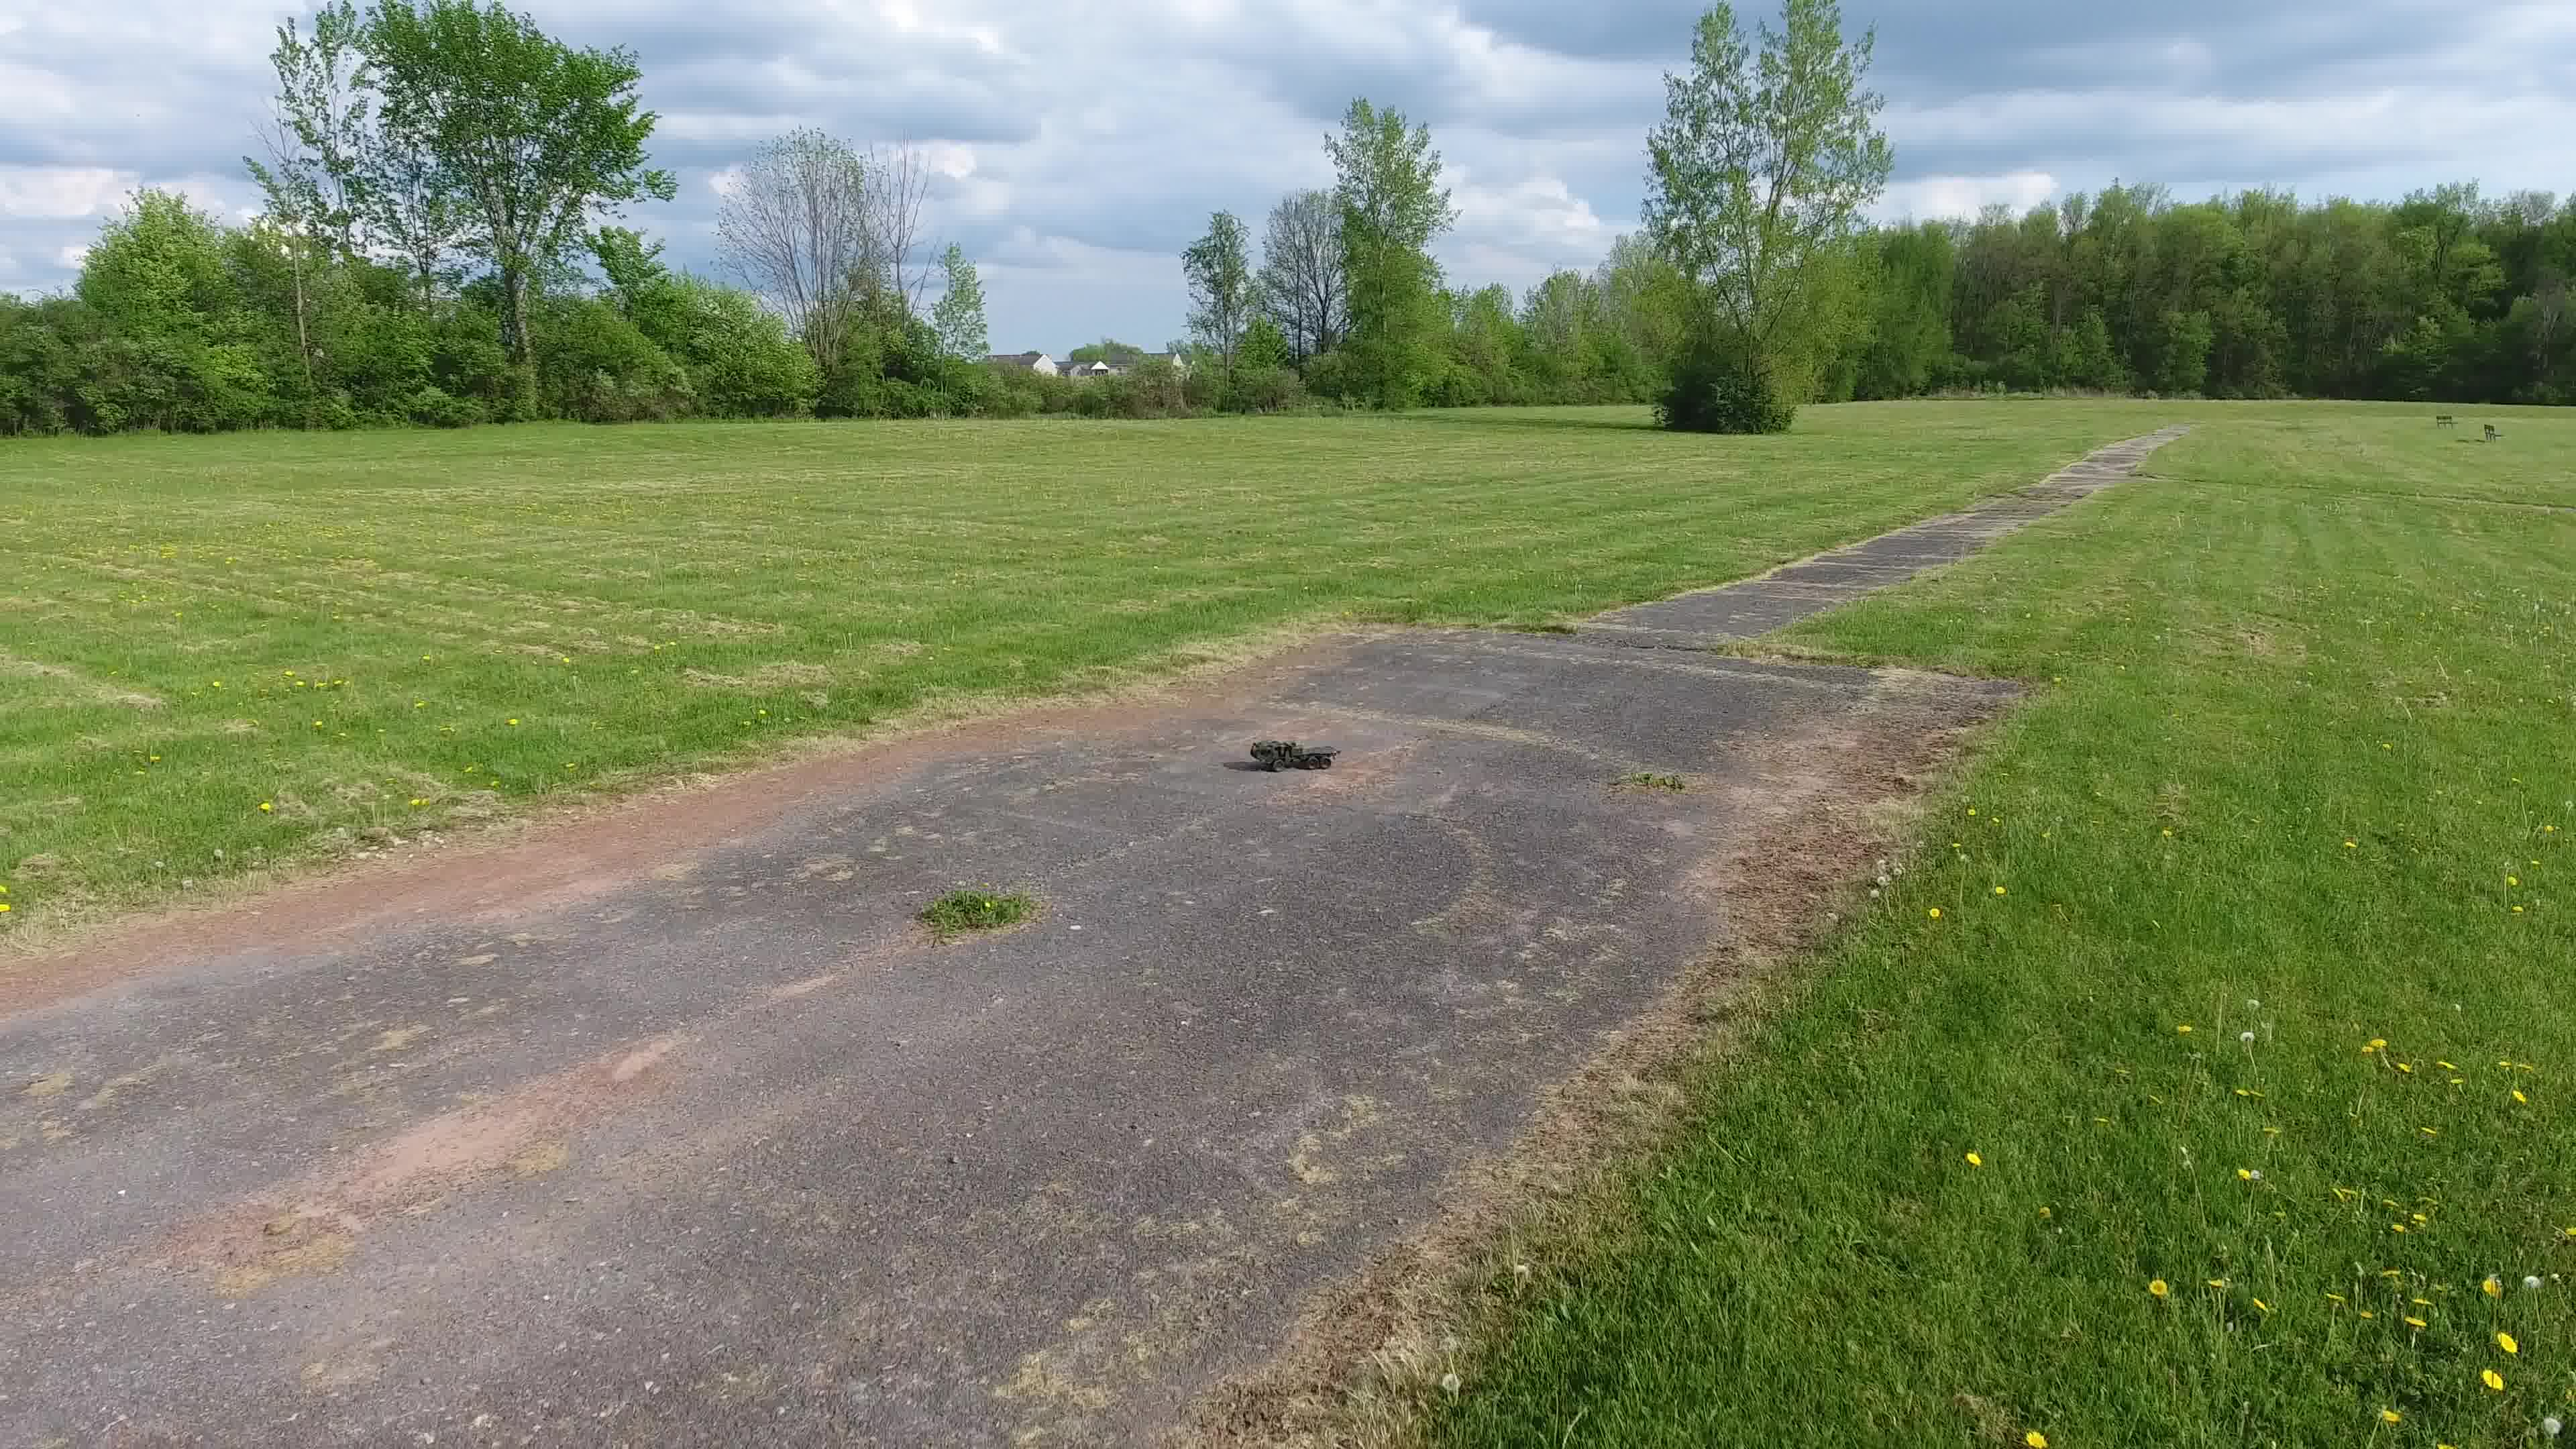transporter9_camo: (1249, 736, 1339, 773)
